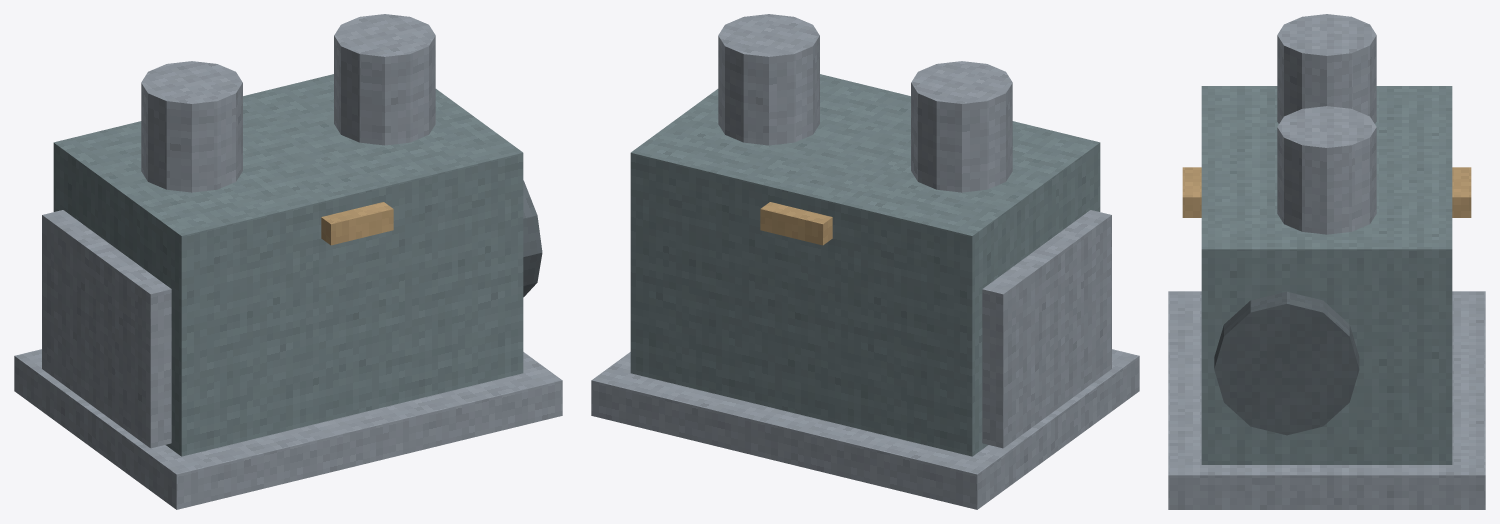
The model's file is level_blockout_ship_engine_block.glb.
3 renders of one model, left to right at view 1: azimuth 30°, elevation 25°; view 2: azimuth 150°, elevation 25°; view 3: azimuth 270°, elevation 25°, orthographic. The views are drawn at different scales.
Visible parts, largest first — view 1: level_blockout_ship_engine_block; view 2: level_blockout_ship_engine_block; view 3: level_blockout_ship_engine_block.
Part boxes in pixels (<box>): level_blockout_ship_engine_block: <box>14,14,562,509</box>; level_blockout_ship_engine_block: <box>591,14,1139,509</box>; level_blockout_ship_engine_block: <box>1168,14,1485,509</box>.
Bounding box in the file's own units: 2.3 × 1.95 × 1.66.
4 materials, 4 textured.
